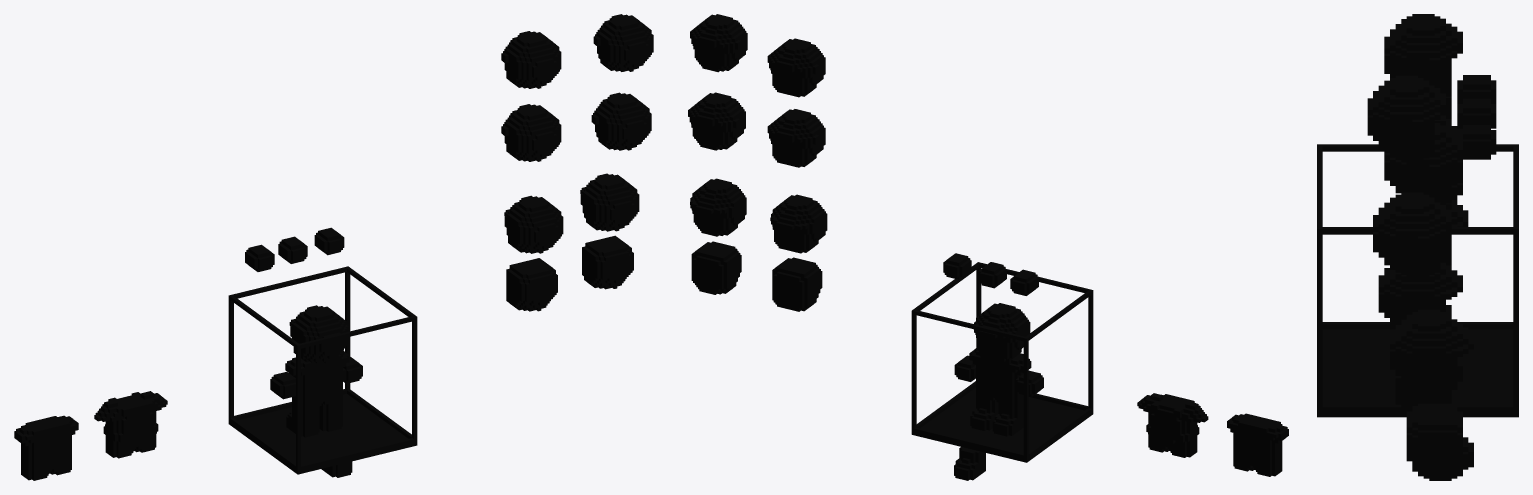
The model's file is Place Holder 1.glb.
3 renders of one model, left to right at view 1: azimuth 30°, elevation 25°; view 2: azimuth 150°, elevation 25°; view 3: azimuth 270°, elevation 25°, orthographic. The views are drawn at different scales.
Parts seen in each view (by area): view 1: Place Holder 1_Node; view 2: Place Holder 1_Node; view 3: Place Holder 1_Node.
Part boxes in pixels (box(x1,y1,x2,y2)): Place Holder 1_Node: box(14, 14, 653, 480); Place Holder 1_Node: box(688, 14, 1288, 480); Place Holder 1_Node: box(1317, 14, 1518, 480).
Bounding box in the file's own units: 187 × 113 × 36.
Materials: 2 (2 with a texture image).
